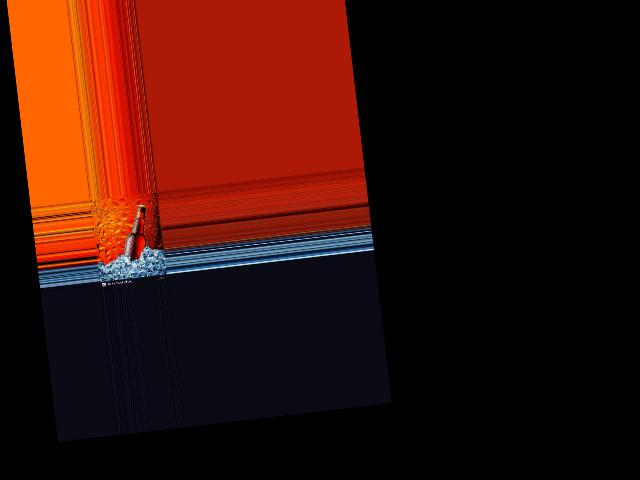beer: (118, 203, 154, 262)
